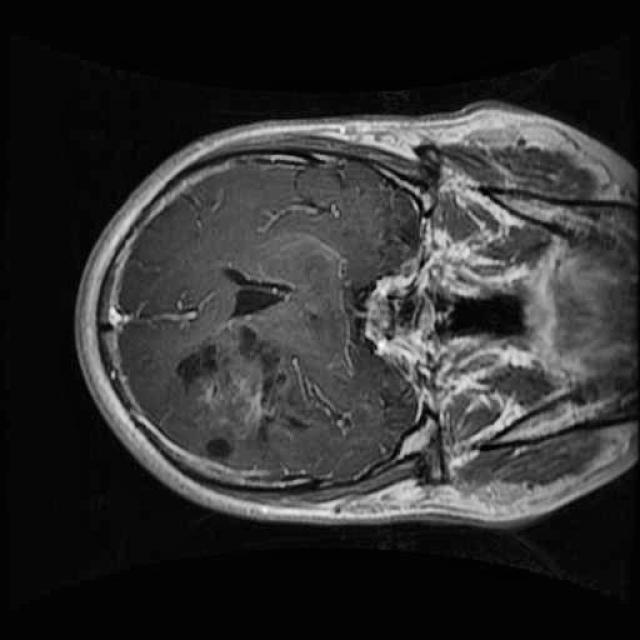Tumor: (161, 307, 324, 473)
